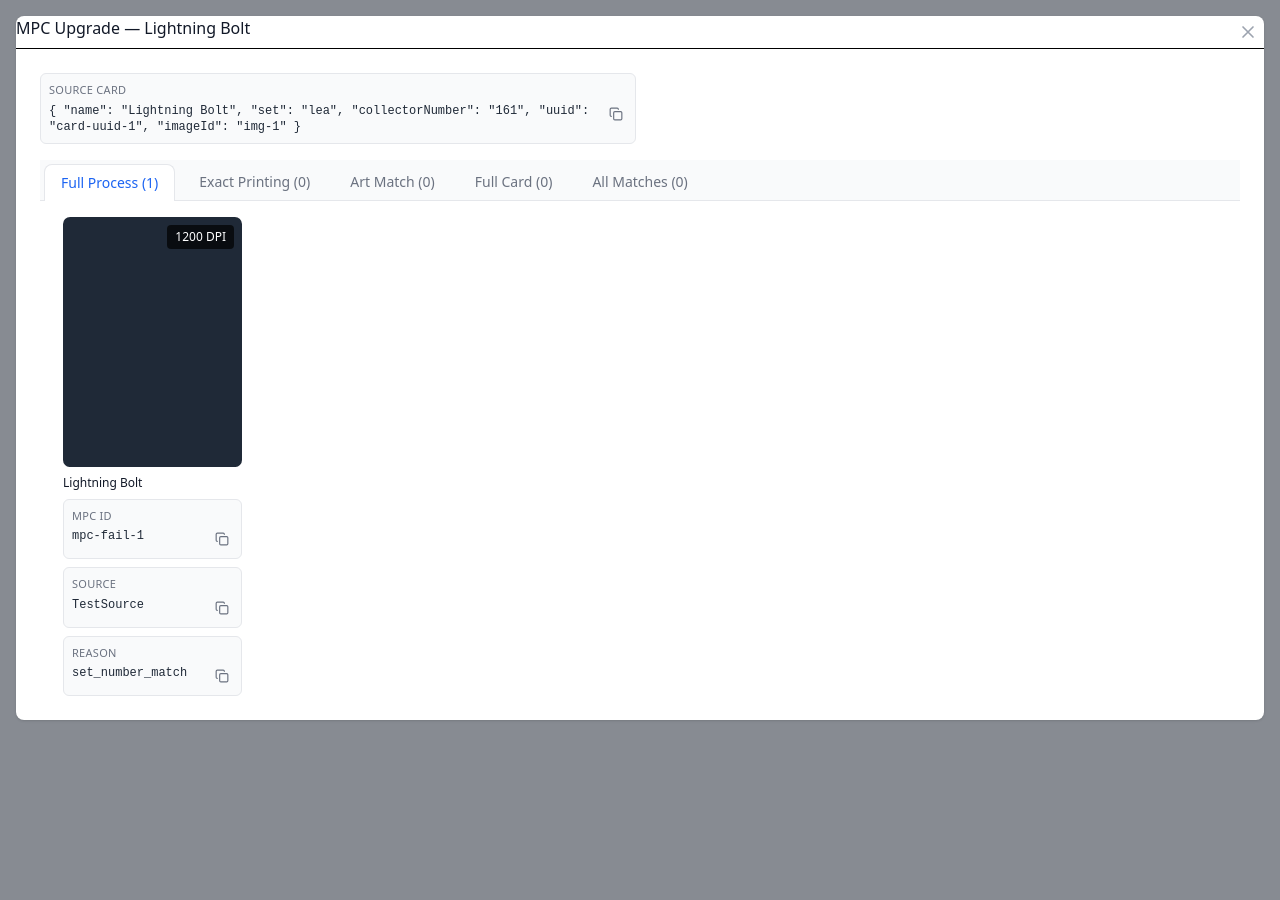
MpcUpgradeModal › shows error banner on apply failure without closing modal
The image size is (1280, 900).
Click the recommendation card
Click the element with test id "mpc-upgrade-recommendation-card": [152, 456] box [63,216,242,696]
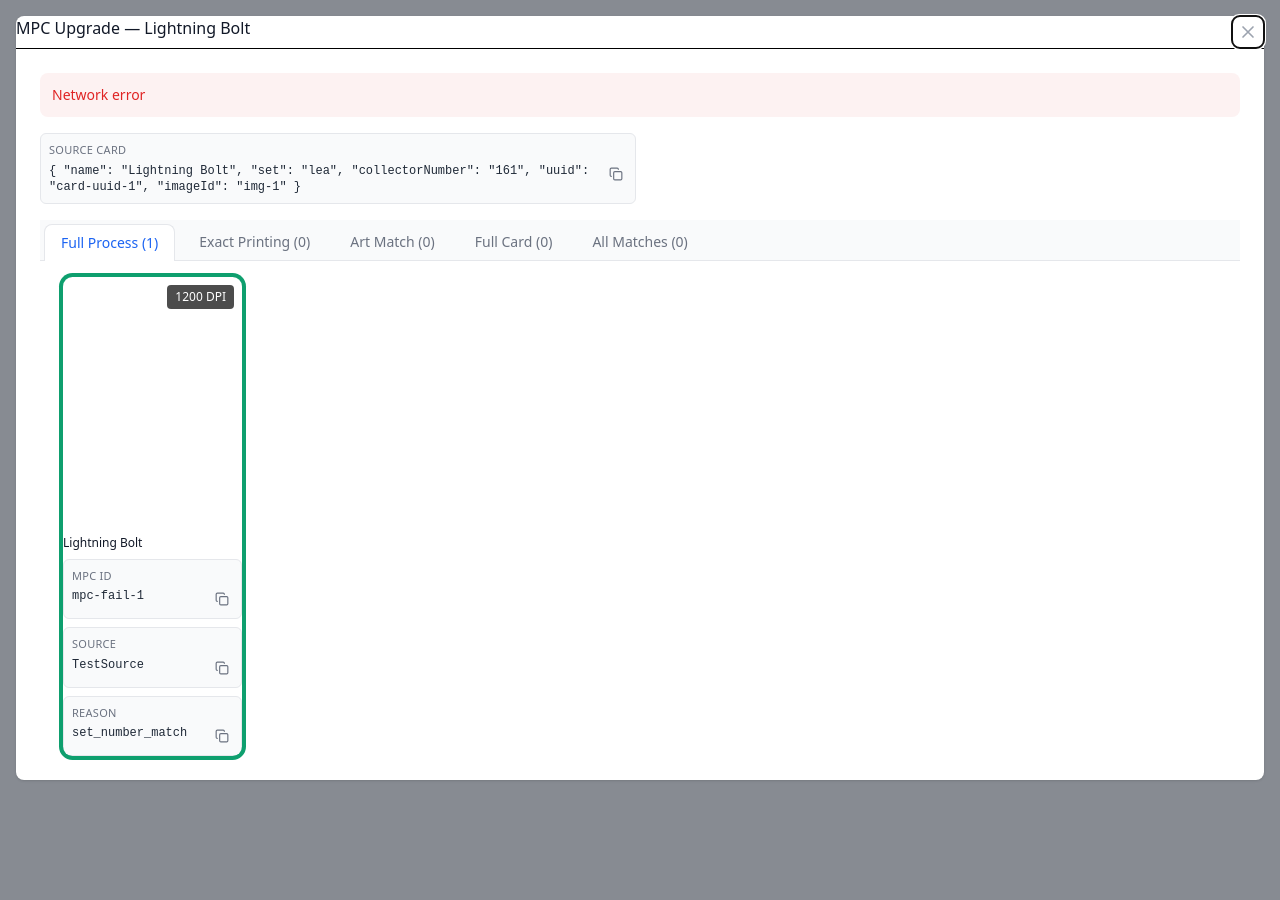
Expected: the text "Network error" is shown, [40,73,1240,117]
